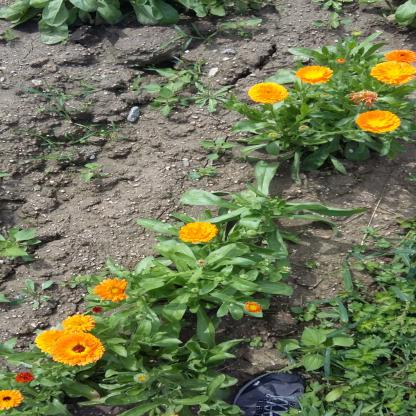marigold: (333, 309, 364, 365), (110, 17, 133, 58), (63, 2, 86, 43), (82, 128, 103, 165), (332, 345, 352, 382), (280, 288, 300, 322), (224, 199, 242, 233), (66, 85, 84, 117), (315, 321, 332, 353)
